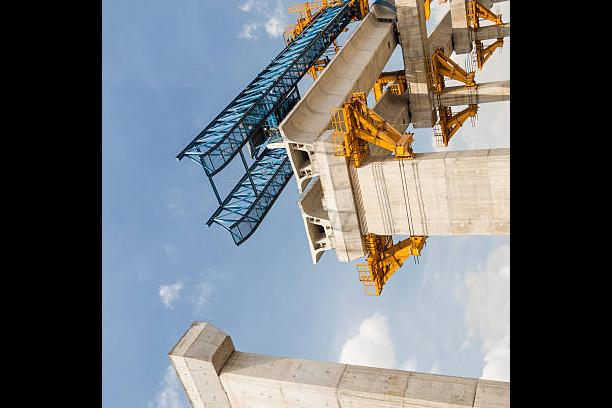Non_Gorille: (143, 0, 499, 408)
